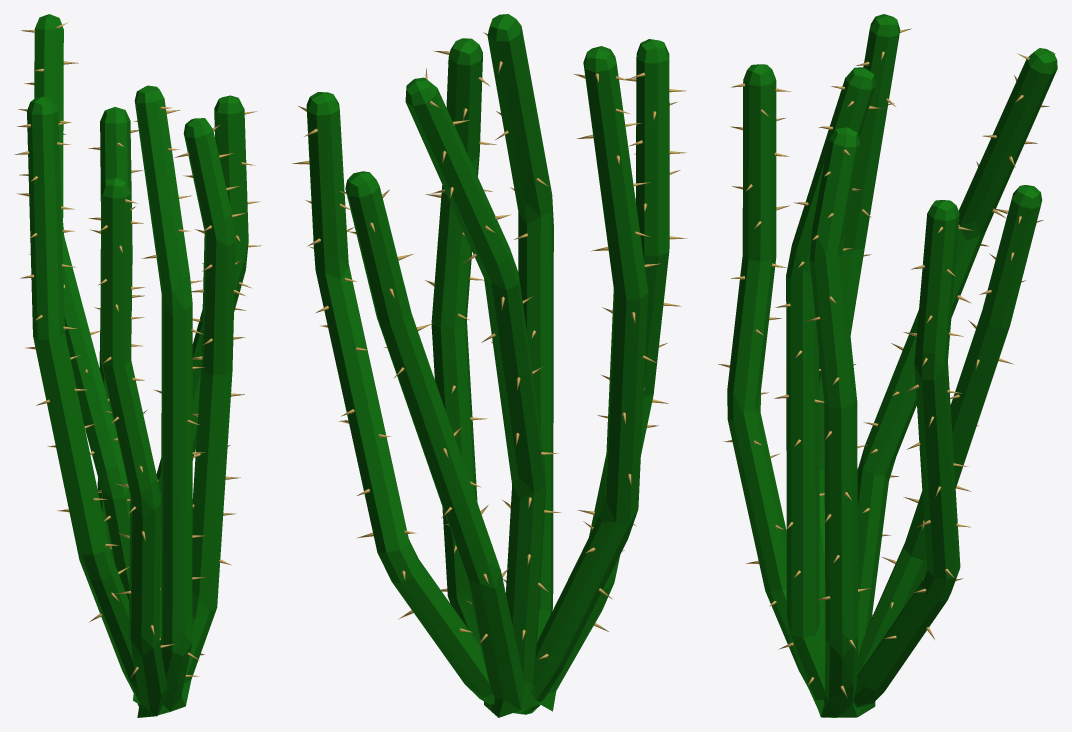
Rendered from Cactus7.fbx.
3 renders of one model, left to right at view 1: azimuth 30°, elevation 25°; view 2: azimuth 150°, elevation 25°; view 3: azimuth 270°, elevation 25°, orthographic. The views are drawn at different scales.
Parts seen in each view (by area): view 1: Cactus7; view 2: Cactus7; view 3: Cactus7.
Boxes of the visible parts, x1,y1,x2,y2 form: Cactus7: (27,14,248,717); Cactus7: (306,14,669,717); Cactus7: (727,14,1057,717).
Bounding box in the file's own units: 464 × 1009 × 476.
